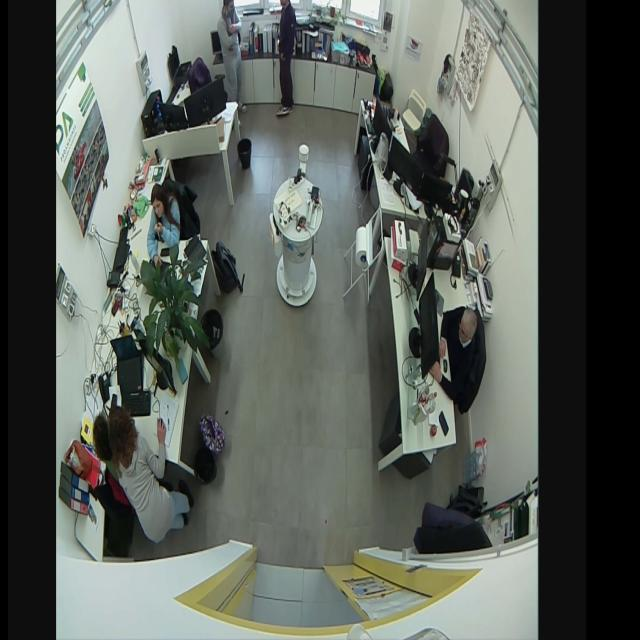Persona: (105, 400, 195, 546), (432, 302, 483, 407), (215, 0, 248, 112), (145, 177, 182, 269), (272, 0, 300, 119)
